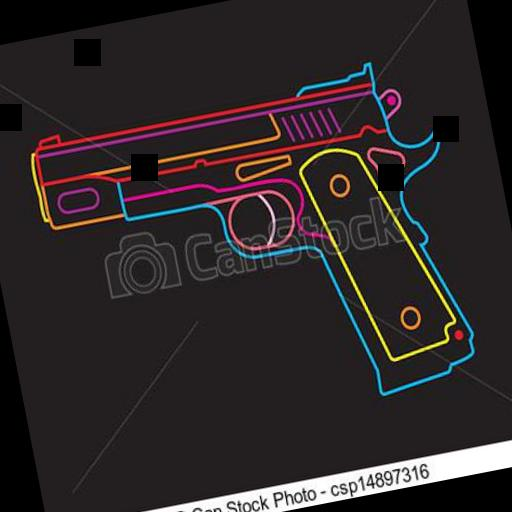Handgun: (21, 50, 485, 452)
